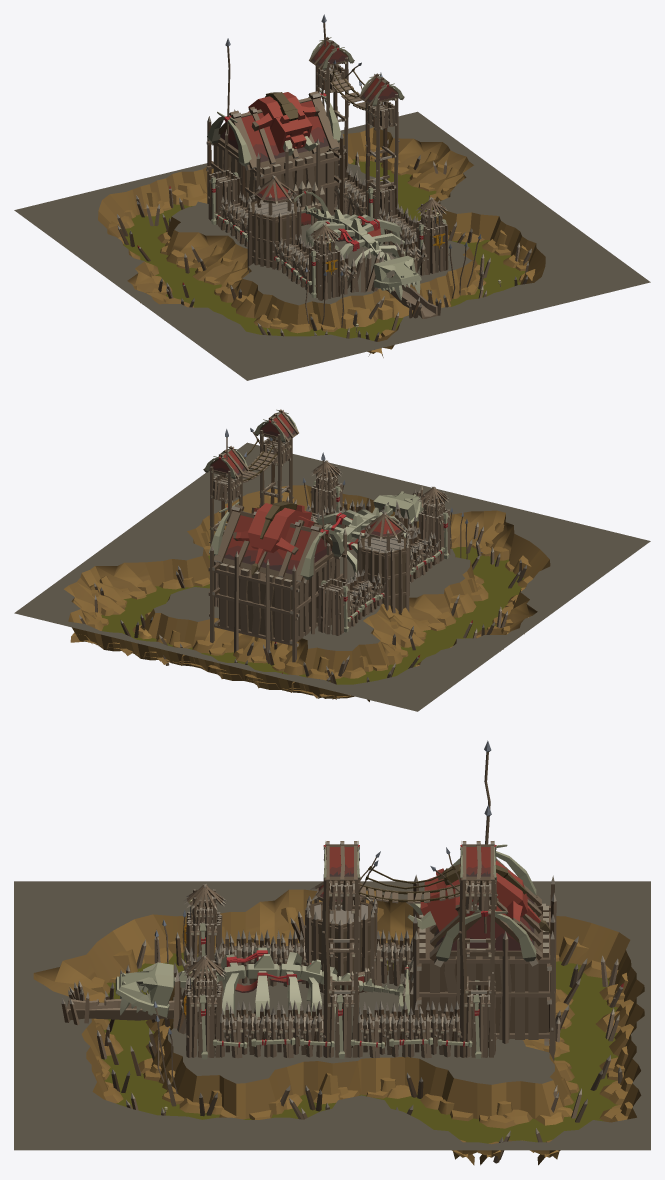
Rendered from SF_Bld_Preset_Goblin_Castle_01.fbx.
3 views of the same model, one above another, from view 1: azimuth 30°, elevation 25°; view 2: azimuth 150°, elevation 25°; view 3: azimuth 270°, elevation 25° (orthographic). The views are drawn at different scales.
Parts seen in each view (by area): view 1: SF_Env_Preset_Goblin_Castle_01; view 2: SF_Env_Preset_Goblin_Castle_01; view 3: SF_Env_Preset_Goblin_Castle_01.
Part boxes in pixels (x1=…): SF_Env_Preset_Goblin_Castle_01: x1=14, y1=14, x2=650, y2=380; SF_Env_Preset_Goblin_Castle_01: x1=14, y1=409, x2=650, y2=711; SF_Env_Preset_Goblin_Castle_01: x1=14, y1=740, x2=650, y2=1165.
Size of the model in its own units: 110 by 54.38 by 110.
